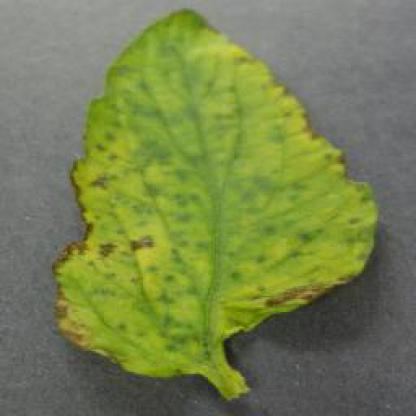bad leaf: (63, 0, 312, 132), (91, 244, 281, 409), (184, 135, 382, 265), (53, 172, 252, 299), (59, 90, 236, 211), (168, 75, 335, 195), (163, 206, 325, 320), (37, 282, 233, 348)
